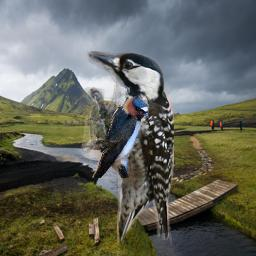Swallow: (89, 96, 149, 178)
Woodpecker: (80, 51, 174, 246)
